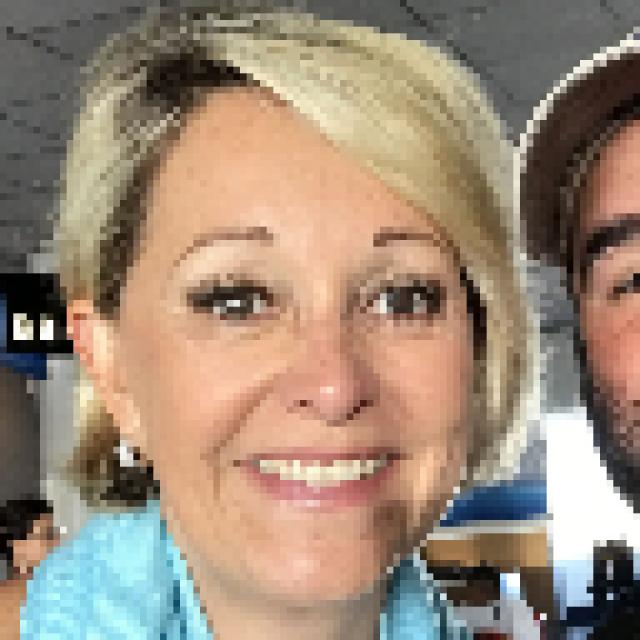happy: (77, 85, 490, 640)
